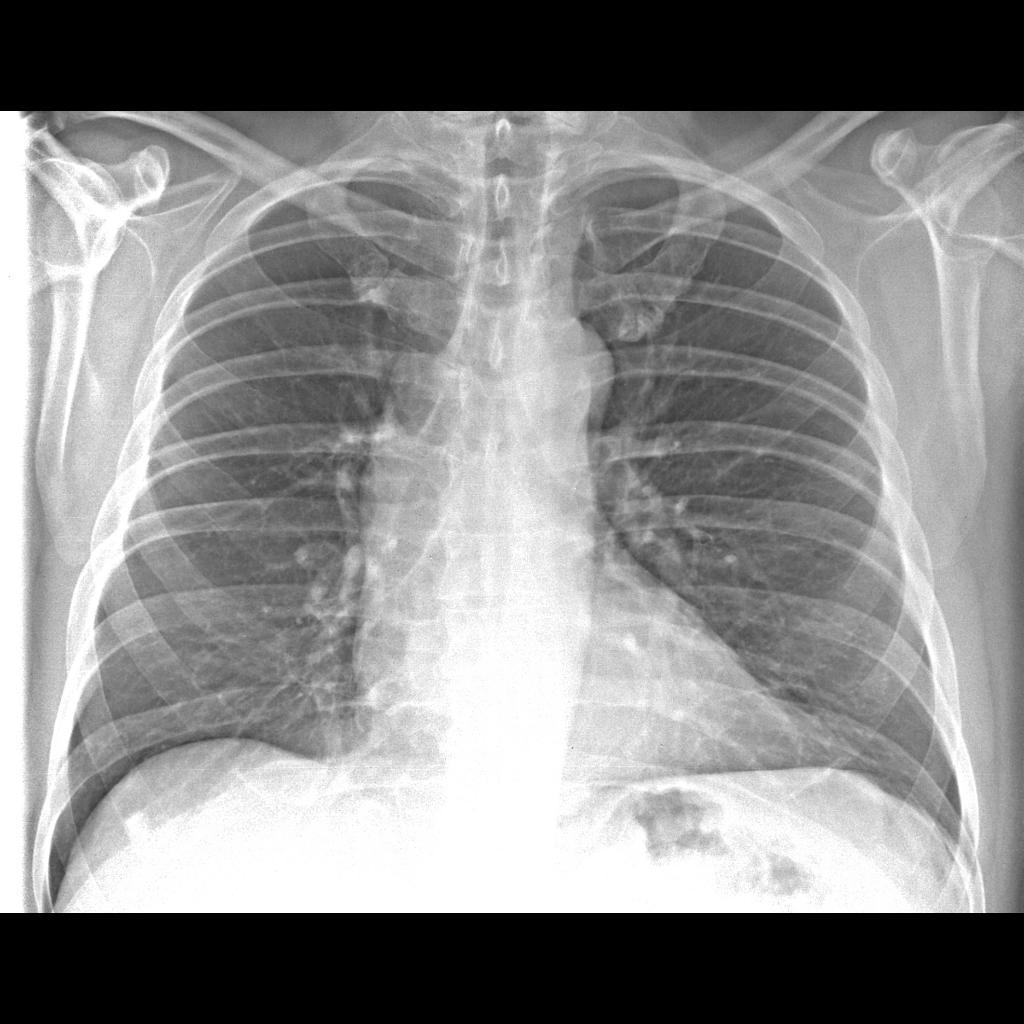Nodule: (291, 536, 352, 575)
